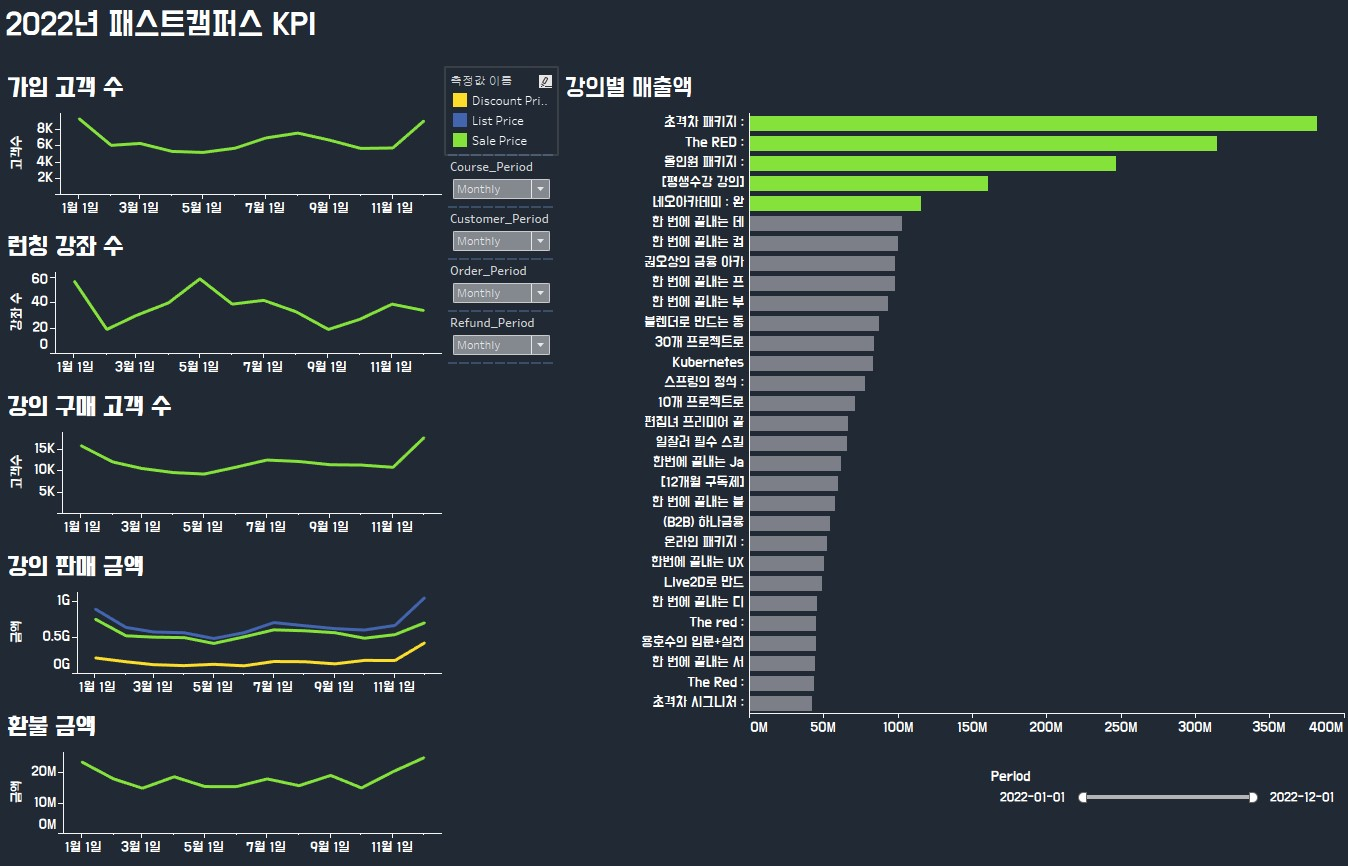

The dashboard page shown, as its layout file describes it:
{"tool":"tableau","page":{"name":"대시보드 1","canvas":[1366,900],"ordinal":0},"visuals":[{"type":"text","box":[8,8,1350,84.6]},{"type":"worksheet","title":"가입 고객 수","mark":"Line","rows":["Calculation_1703486564592074762"],"cols":["Calculation_1703486564592529419"],"box":[8,92.6,447,159.9]},{"type":"legend","title":"강의 판매 금액","param":"[federated.0wn0iym0bvhx6512xmhf61bwc8l9].[:Measure Names]","box":[455,92.6,111,86]},{"type":"worksheet","title":"강의별 매출액","mark":"Automatic","rows":["name (order.csv)"],"cols":["sale_price"],"box":[566,92.6,792,697.4]},{"type":"parameter","param":"[Parameters].[매개 변수 4]","box":[455,178.6,111,52]},{"type":"parameter","param":"[Parameters].[매개 변수 3]","box":[455,230.6,111,52]},{"type":"worksheet","title":"런칭 강좌 수","mark":"Line","rows":["id (course.csv)"],"cols":["Calculation_1703486564594294797"],"box":[8,252.5,447,159.9]},{"type":"parameter","param":"[Parameters].[매개 변수 1]","box":[455,282.6,111,52]},{"type":"parameter","param":"[Parameters].[매개 변수 2]","box":[455,334.6,111,52]},{"type":"worksheet","title":"강의 구매 고객 수","mark":"Line","rows":["Calculation_1703486564560965637"],"cols":["Calculation_1703486564556967939"],"box":[8,412.4,447,159.9]},{"type":"worksheet","title":"강의 판매 금액","mark":"Line","cols":["Calculation_1703486564556967939"],"box":[8,572.2,447,159.9]},{"type":"worksheet","title":"환불 금액","mark":"Line","rows":["Calculation_1703486564581941257"],"cols":["Calculation_1703486564581654536"],"box":[8,732.1,447,159.9]},{"type":"blank","box":[566,790,430,102]},{"type":"filter","title":"강의별 매출액","param":"[federated.0wn0iym0bvhx6512xmhf61bwc8l9].[none:Calculation_1703486564556967939:q","box":[996,790,362,102]}]}

Visuals, with their boxes in screenshot pixels (x1, y1, x2, y2), scaled from the page's 1366x900 canvas onto the 1348x866 screenshot:
text: l=8, t=8, r=1340, b=89
"가입 고객 수" worksheet (Line marks): l=8, t=89, r=449, b=243
"강의 판매 금액" legend: l=449, t=89, r=559, b=172
"강의별 매출액" worksheet: l=559, t=89, r=1340, b=760
parameter: l=449, t=172, r=559, b=222
parameter: l=449, t=222, r=559, b=272
"런칭 강좌 수" worksheet (Line marks): l=8, t=243, r=449, b=397
parameter: l=449, t=272, r=559, b=322
parameter: l=449, t=322, r=559, b=372
"강의 구매 고객 수" worksheet (Line marks): l=8, t=397, r=449, b=551
"강의 판매 금액" worksheet (Line marks): l=8, t=551, r=449, b=704
"환불 금액" worksheet (Line marks): l=8, t=704, r=449, b=858
blank: l=559, t=760, r=983, b=858
"강의별 매출액" filter: l=983, t=760, r=1340, b=858
